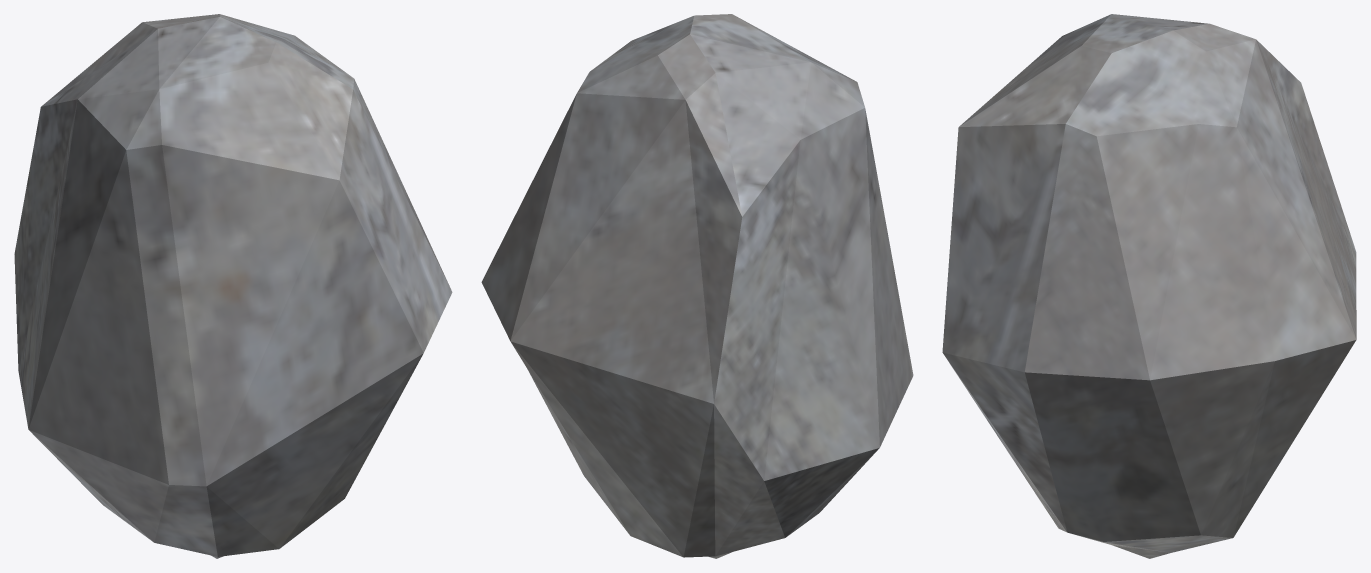
The model's file is mg_12_crystal_5.fbx.
3 renders of one model, left to right at view 1: azimuth 30°, elevation 25°; view 2: azimuth 150°, elevation 25°; view 3: azimuth 270°, elevation 25°, orthographic.
Visible parts, largest first — view 1: mg_12_crystal_5; view 2: mg_12_crystal_5; view 3: mg_12_crystal_5.
Boxes of the visible parts, bbox=[...] form: mg_12_crystal_5: bbox=[14, 14, 452, 558]; mg_12_crystal_5: bbox=[481, 14, 913, 558]; mg_12_crystal_5: bbox=[942, 14, 1356, 558].
Bounding box in the file's own units: 11.12 × 14.71 × 10.3.
